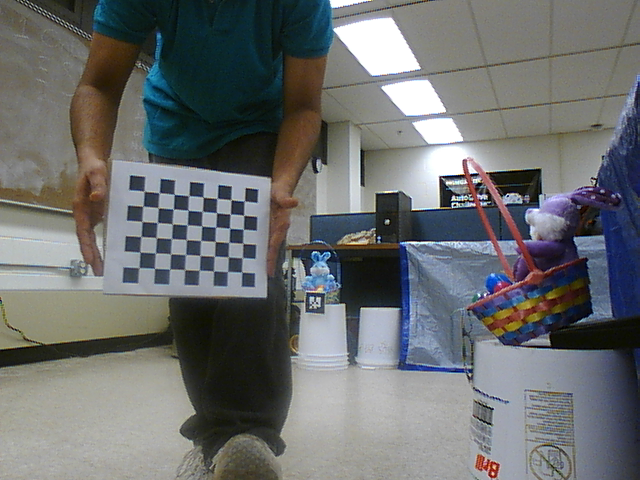bunny: (452, 153, 615, 352)
